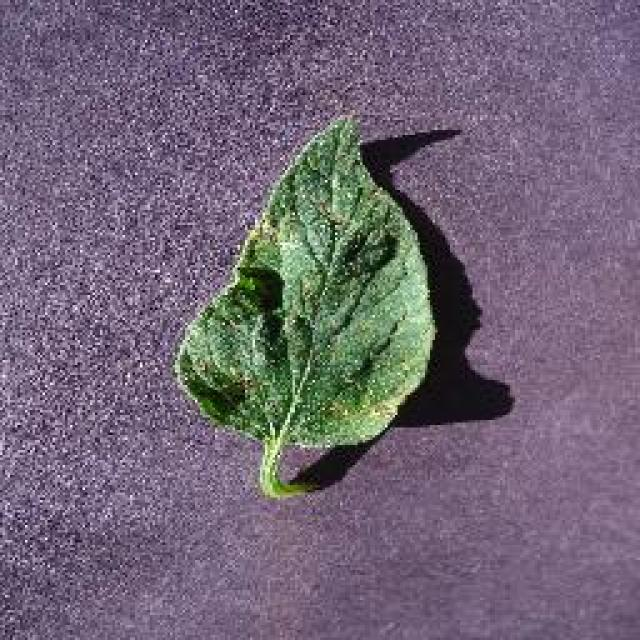Tomato___Septoria_leaf_spot: (178, 118, 435, 495)
